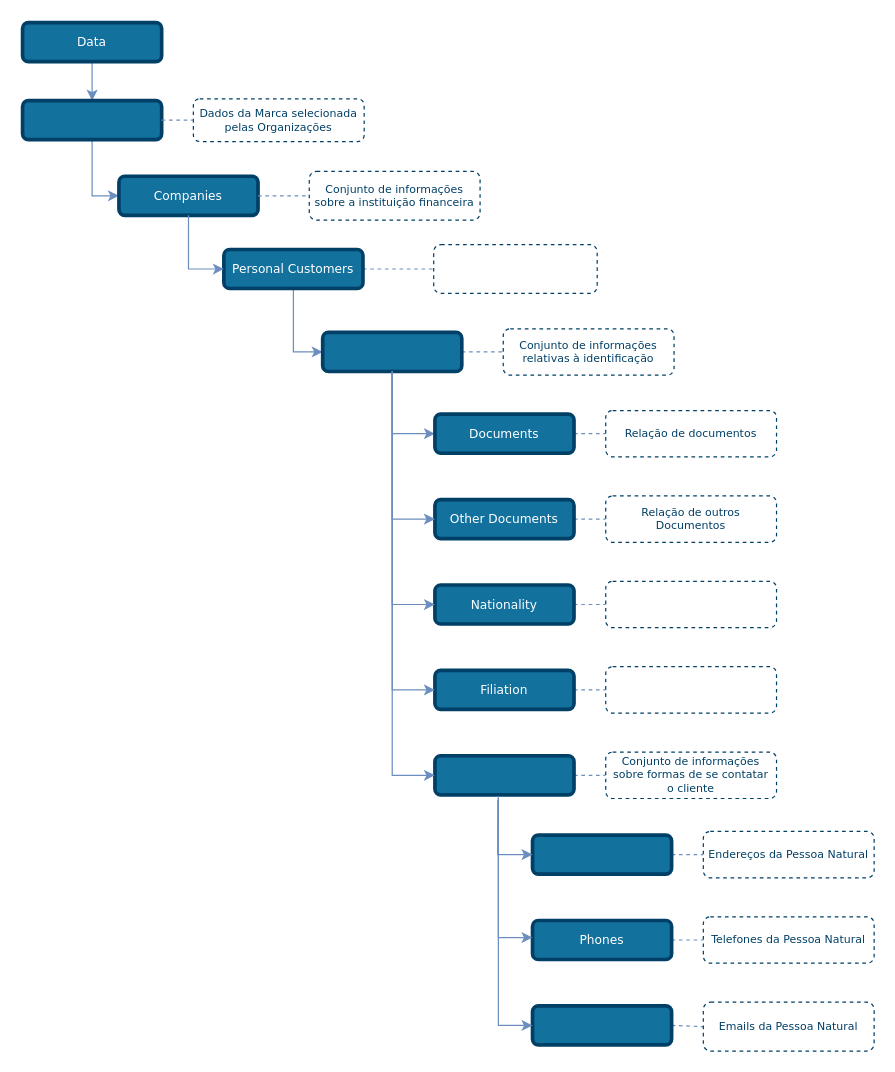
This 895x1072 diagram has some shape labels left out. The shapes that lost their labels are listed below. From the top down, each one's centre as x and y in pixels, then its label:
the point at 91,119: Brand
the point at 514,268: Conjunto de informações cadastrais do Cliente Pessoa Natural
the point at 391,351: Identification
the point at 691,604: Informações relativas à nacionalidade da Pessoa Natural
the point at 691,689: Informações relativas à filiação da Pessoa Natural
the point at 503,774: Contacts
the point at 601,854: Postal Addresses
the point at 601,1024: Emails
